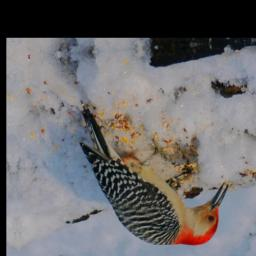Woodpecker: (73, 90, 233, 255)
